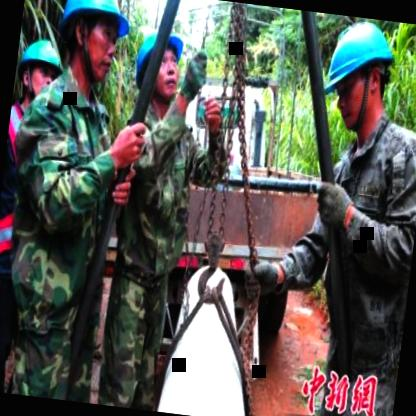helmet: (313, 13, 405, 142), (53, 0, 138, 94), (11, 28, 70, 108), (129, 22, 186, 103)
